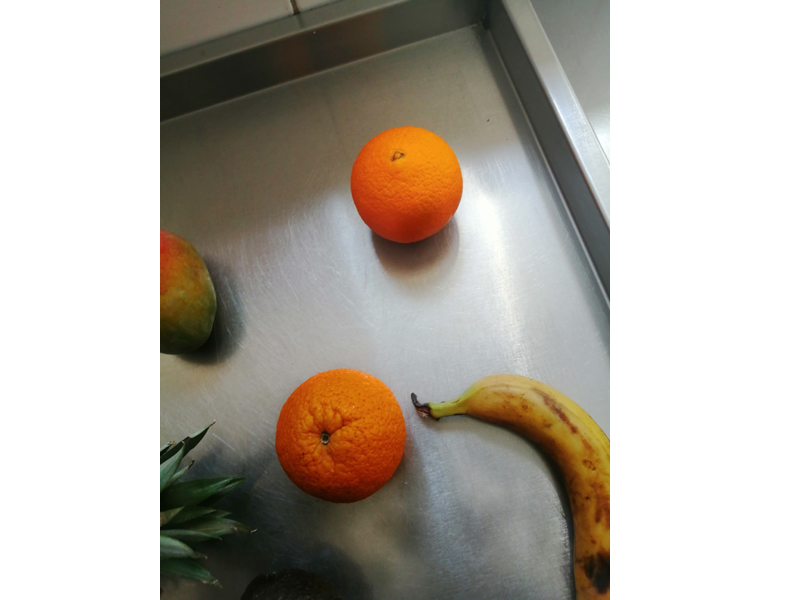orange: (267, 366, 412, 503), (330, 122, 471, 260)
